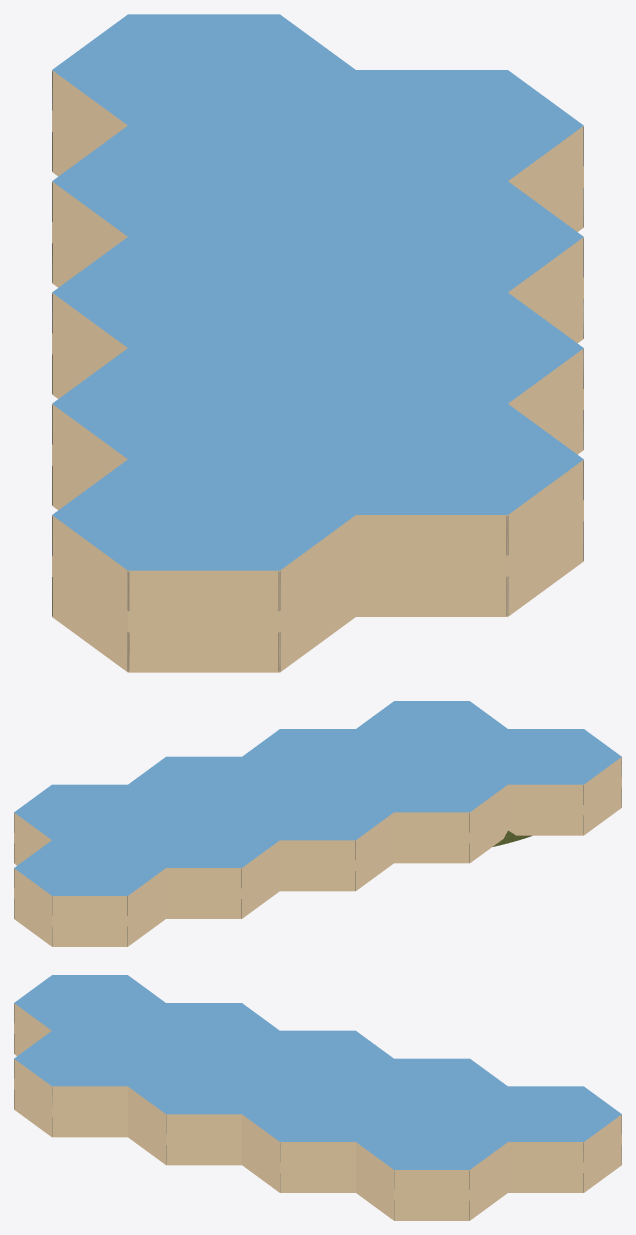
Rendered from original.glb.
3 renders of one model, top to bottom at view 1: azimuth 30°, elevation 25°; view 2: azimuth 150°, elevation 25°; view 3: azimuth 270°, elevation 25°, orthographic. The views are drawn at different scales.
Visible parts, largest first — view 1: GRANJA_Techo, GRANJA_Paredes, GRANJA_Estructura_Paredes; view 2: GRANJA_Techo, GRANJA_Paredes, GRANJA_Estructura_Paredes; view 3: GRANJA_Techo, GRANJA_Paredes, GRANJA_Estructura_Paredes.
Part boxes in pixels (left/top/right/bottom): GRANJA_Techo: left=52, top=14, right=583, bottom=570; GRANJA_Paredes: left=52, top=70, right=583, bottom=672; GRANJA_Estructura_Paredes: left=52, top=71, right=583, bottom=671; GRANJA_Techo: left=14, top=701, right=621, bottom=895; GRANJA_Paredes: left=14, top=757, right=621, bottom=946; GRANJA_Estructura_Paredes: left=14, top=757, right=621, bottom=945; GRANJA_Techo: left=14, top=975, right=621, bottom=1169; GRANJA_Paredes: left=14, top=1003, right=621, bottom=1220; GRANJA_Estructura_Paredes: left=14, top=1004, right=621, bottom=1219.
Bounding box in the file's own units: 303 × 87 × 400.
10 materials, 4 textured.
